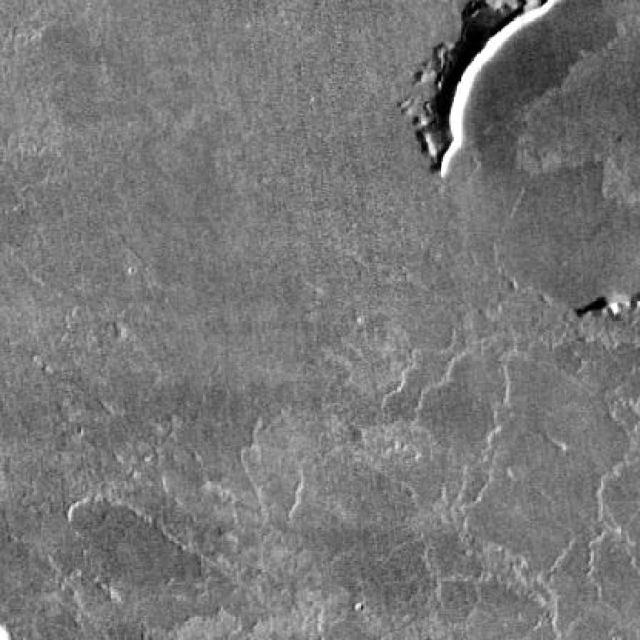crater: (432, 0, 639, 298)
